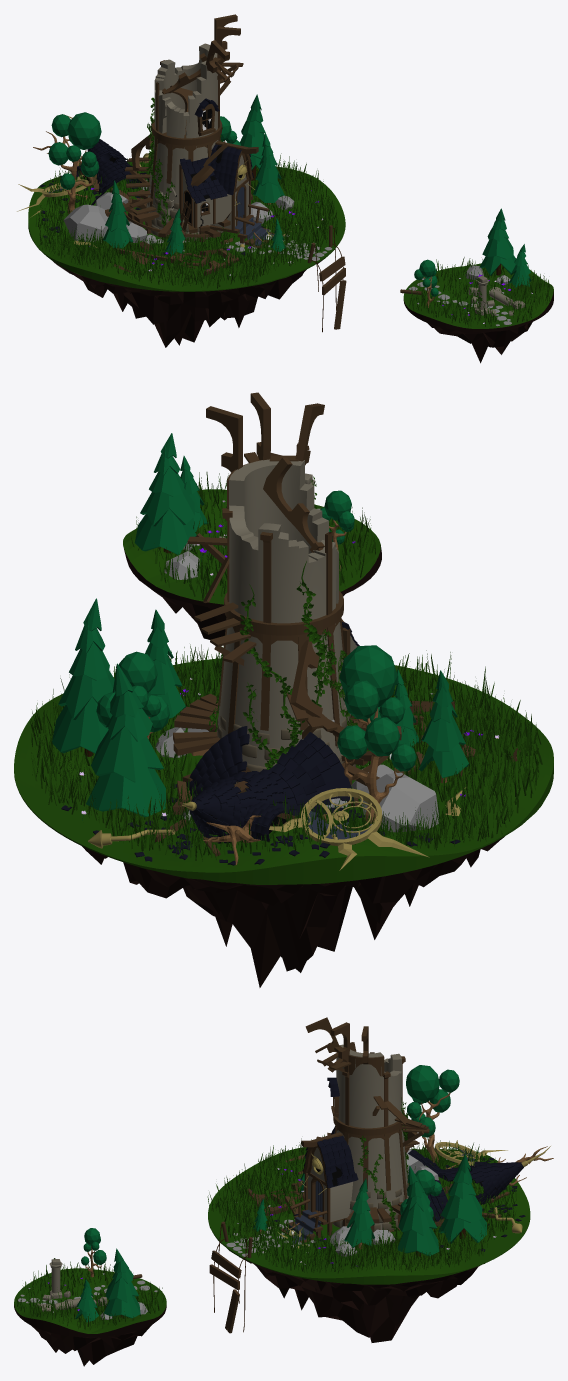
The model's file is tower1.glb.
3 renders of one model, top to bottom at view 1: azimuth 30°, elevation 25°; view 2: azimuth 150°, elevation 25°; view 3: azimuth 270°, elevation 25°, orthographic. The views are drawn at different scales.
Visible parts, largest first — view 1: object 575, object 1, object 547, object 517, object 264, object 583; view 2: object 575, object 1, object 547, object 517, object 264, object 554, object 45; view 3: object 575, object 1, object 547, object 517, object 264, object 583, object 577.
Part boxes in pixels (x1,y1,x2,y2): object 575: (28, 97, 553, 363); object 1: (17, 94, 531, 332); object 547: (109, 43, 524, 316); object 517: (80, 14, 346, 329); object 264: (76, 98, 241, 205); object 583: (47, 187, 274, 246); object 575: (14, 472, 553, 987); object 1: (52, 433, 469, 870); object 547: (208, 459, 357, 832); object 517: (206, 392, 462, 826); object 264: (192, 726, 355, 840); object 554: (263, 457, 324, 552); object 45: (217, 706, 355, 783); object 575: (14, 1097, 530, 1366); object 1: (18, 1065, 553, 1332); object 547: (42, 1044, 498, 1311); object 517: (225, 1017, 417, 1333); object 264: (320, 1077, 519, 1221); object 583: (284, 1147, 474, 1243); object 577: (348, 1055, 384, 1076).
Size of the model in its own units: 26.27 by 22.55 by 33.86.
